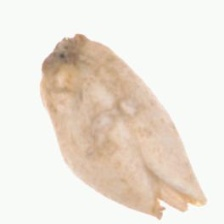L1: (145, 181, 207, 217), (42, 33, 84, 71)
L2: (38, 32, 207, 217)
